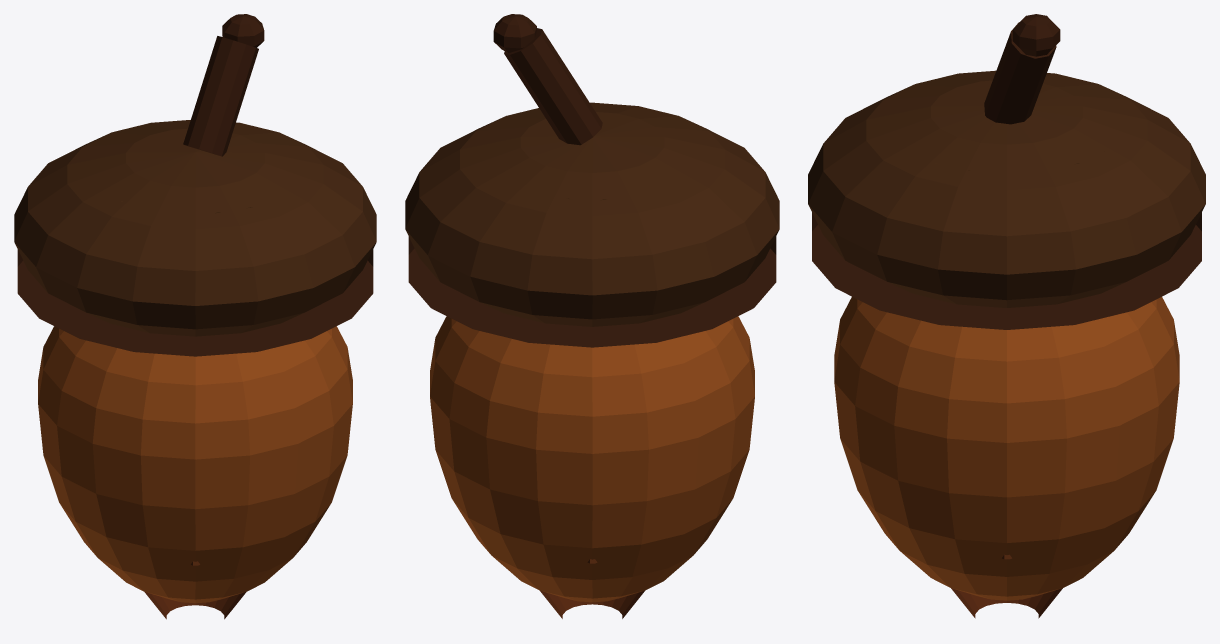
The model's file is throwable_acorn.obj.
The picture shows the model from 3 angles, left to right: view 1: azimuth 30°, elevation 25°; view 2: azimuth 150°, elevation 25°; view 3: azimuth 270°, elevation 25°; orthographic projection. The views are drawn at different scales.
Visible parts, largest first — view 1: Acorn_nut_smooth_teardrop_body, Acorn_cap_rough_dome, Acorn_cap_lower_rim_band, Acorn_short_curved_stem, Acorn_stem_knob, Acorn_lower_pointed_tip; view 2: Acorn_nut_smooth_teardrop_body, Acorn_cap_rough_dome, Acorn_cap_lower_rim_band, Acorn_short_curved_stem, Acorn_stem_knob, Acorn_lower_pointed_tip; view 3: Acorn_nut_smooth_teardrop_body, Acorn_cap_rough_dome, Acorn_cap_lower_rim_band, Acorn_short_curved_stem, Acorn_stem_knob, Acorn_lower_pointed_tip.
Part boxes in pixels (left/top/right/bottom): Acorn_nut_smooth_teardrop_body: left=38, top=326, right=352, bottom=603; Acorn_cap_rough_dome: left=14, top=120, right=376, bottom=336; Acorn_cap_lower_rim_band: left=17, top=249, right=373, bottom=356; Acorn_short_curved_stem: left=183, top=36, right=258, bottom=156; Acorn_stem_knob: left=222, top=14, right=264, bottom=47; Acorn_lower_pointed_tip: left=144, top=592, right=246, bottom=619; Acorn_nut_smooth_teardrop_body: left=430, top=316, right=754, bottom=602; Acorn_cap_rough_dome: left=405, top=102, right=779, bottom=326; Acorn_cap_lower_rim_band: left=408, top=236, right=776, bottom=347; Acorn_short_curved_stem: left=504, top=28, right=602, bottom=145; Acorn_stem_knob: left=493, top=14, right=536, bottom=52; Acorn_lower_pointed_tip: left=540, top=590, right=644, bottom=618; Acorn_nut_smooth_teardrop_body: left=834, top=297, right=1179, bottom=600; Acorn_cap_rough_dome: left=808, top=70, right=1205, bottom=307; Acorn_cap_lower_rim_band: left=812, top=212, right=1201, bottom=329; Acorn_short_curved_stem: left=984, top=22, right=1056, bottom=124; Acorn_stem_knob: left=1012, top=14, right=1060, bottom=56; Acorn_lower_pointed_tip: left=951, top=588, right=1062, bottom=618.
Size of the model in its own units: 0.7544 by 1.3 by 0.7429.
